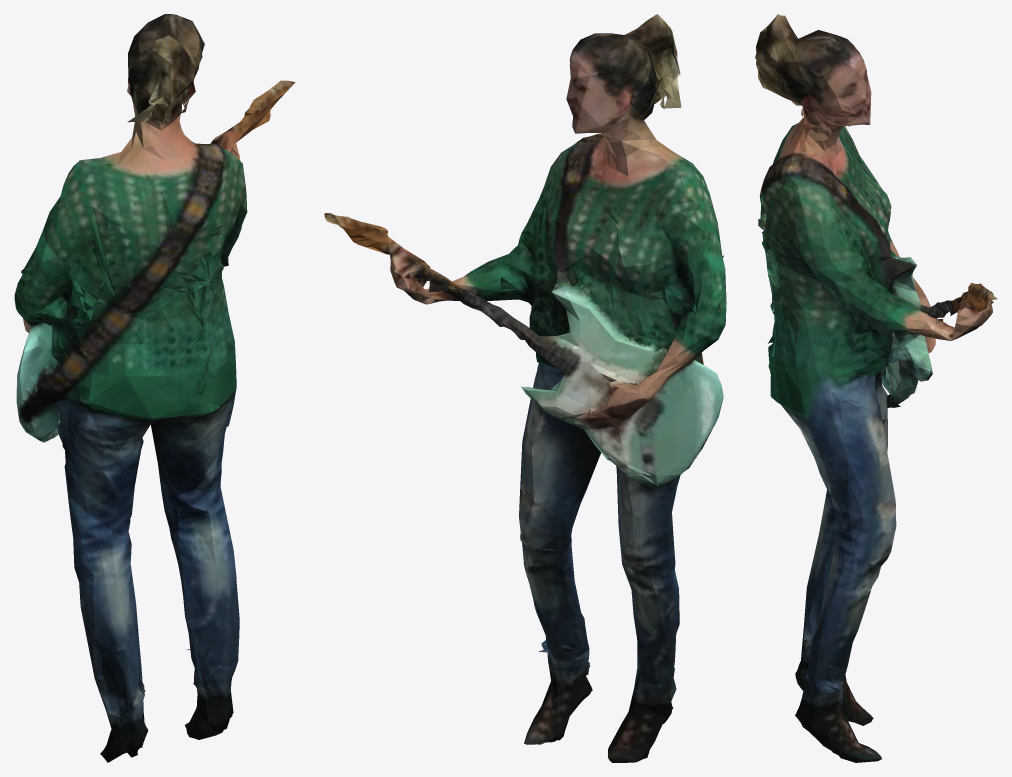
3 views of the same model, side by side, from view 1: azimuth 30°, elevation 25°; view 2: azimuth 150°, elevation 25°; view 3: azimuth 270°, elevation 25° (orthographic). The views are drawn at different scales.
Visible parts, largest first — view 1: dec_0007; view 2: dec_0007; view 3: dec_0007.
Boxes of the visible parts, bbox=[...] form: dec_0007: bbox=[14, 14, 295, 762]; dec_0007: bbox=[324, 14, 726, 762]; dec_0007: bbox=[755, 14, 997, 762].
Bounding box in the file's own units: 0.8299 × 1.71 × 0.5307.
Materials: 1 (1 with a texture image).
